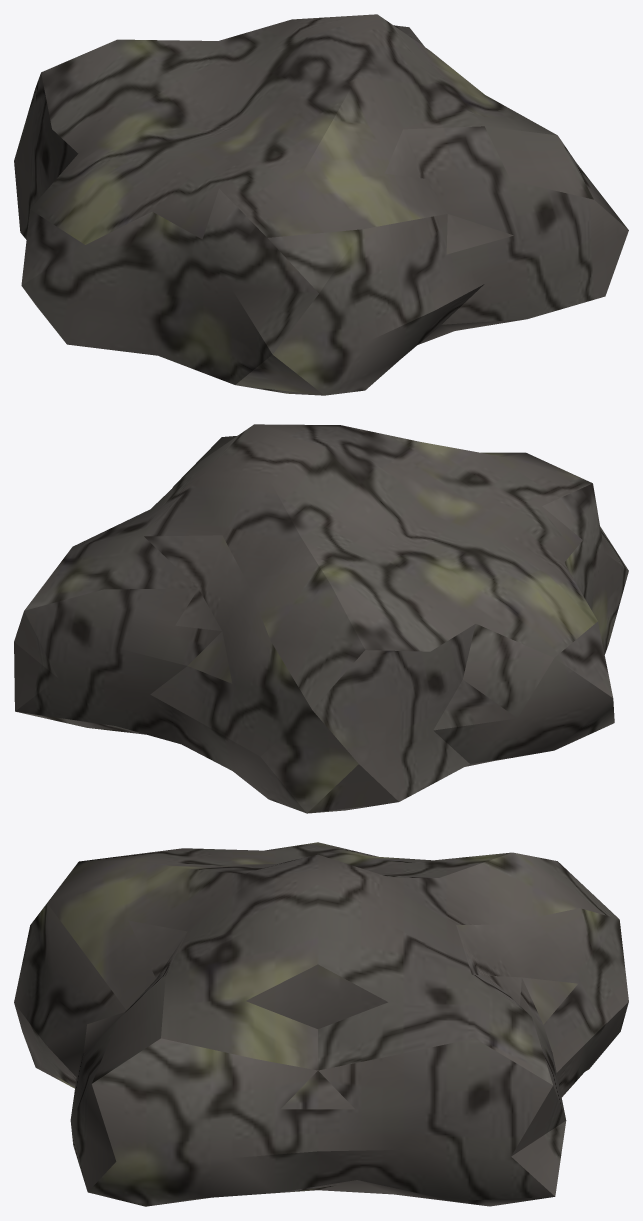
The model's file is boulder.glb.
3 views of the same model, one above another, from view 1: azimuth 30°, elevation 25°; view 2: azimuth 150°, elevation 25°; view 3: azimuth 270°, elevation 25° (orthographic). The views are drawn at different scales.
Visible parts, largest first — view 1: boat_rock; view 2: boat_rock; view 3: boat_rock.
Boxes of the visible parts, x1=… form: boat_rock: x1=14, y1=14, x2=628, y2=395; boat_rock: x1=14, y1=424, x2=628, y2=813; boat_rock: x1=14, y1=842, x2=628, y2=1206.
Size of the model in its own units: 1.37 by 0.6216 by 1.34.
1 material, 1 textured.
